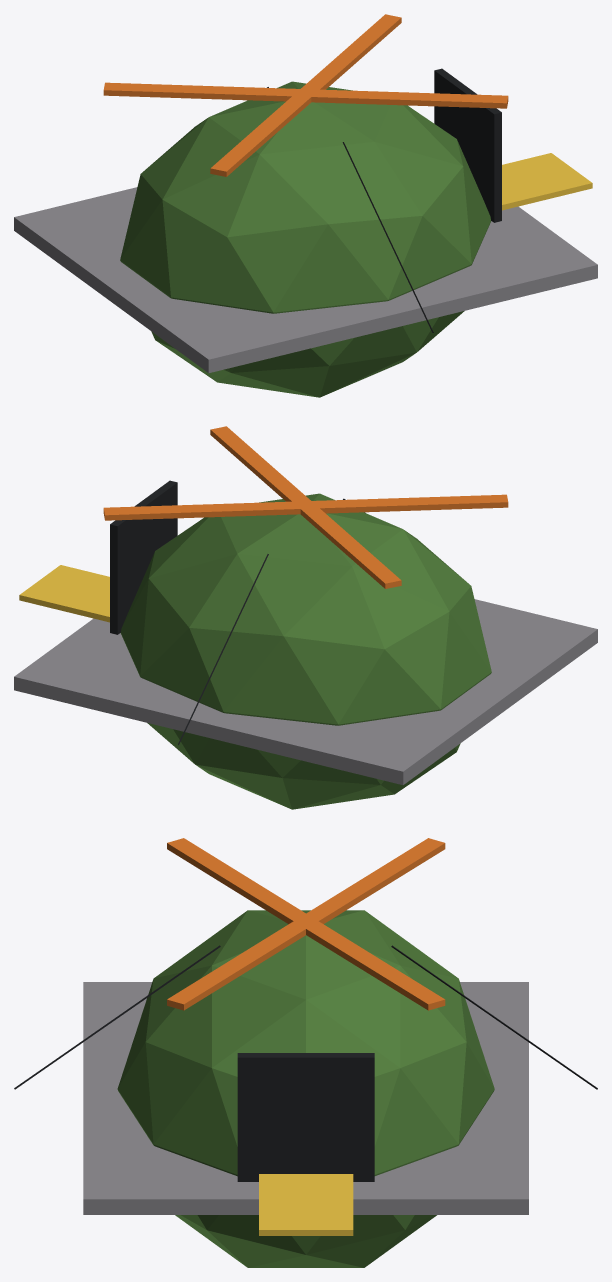
Rendered from talt.glb.
3 renders of one model, top to bottom at view 1: azimuth 30°, elevation 25°; view 2: azimuth 150°, elevation 25°; view 3: azimuth 270°, elevation 25°, orthographic. The views are drawn at different scales.
Visible parts, largest first — view 1: talt; view 2: talt; view 3: talt.
Boxes of the visible parts, left/top/right/bottom form: talt: left=14, top=14, right=597, bottom=397; talt: left=14, top=426, right=597, bottom=809; talt: left=14, top=838, right=597, bottom=1267.
Size of the model in its own units: 3.55 by 2.13 by 3.41.
